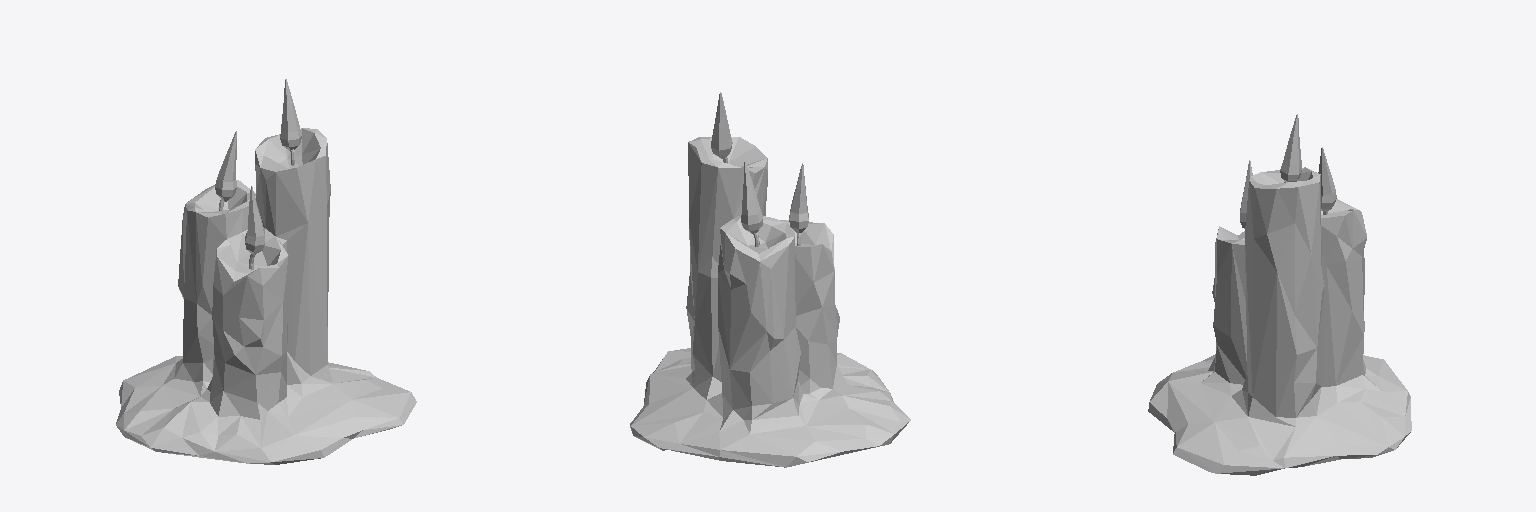
The model's file is candle7.obj.
3 views of the same model, side by side, from view 1: azimuth 30°, elevation 25°; view 2: azimuth 150°, elevation 25°; view 3: azimuth 270°, elevation 25° (orthographic).
Parts seen in each view (by area): view 1: Object003, candleflame003, candleflame002, candleflame001; view 2: Object003, candleflame002, candleflame003, candleflame001; view 3: Object003, candleflame003, candleflame002.
Boxes of the visible parts, x1=… form: Object003: x1=116, y1=128, x2=416, y2=464; candleflame003: x1=280, y1=79, x2=301, y2=150; candleflame002: x1=215, y1=131, x2=236, y2=201; candleflame001: x1=245, y1=186, x2=264, y2=254; Object003: x1=630, y1=137, x2=910, y2=467; candleflame002: x1=741, y1=162, x2=762, y2=234; candleflame003: x1=711, y1=92, x2=732, y2=158; candleflame001: x1=789, y1=163, x2=808, y2=232; Object003: x1=1148, y1=167, x2=1411, y2=475; candleflame003: x1=1280, y1=114, x2=1301, y2=181; candleflame002: x1=1318, y1=147, x2=1336, y2=211.
Bounding box in the file's own units: 1.05 × 1.24 × 0.9231.